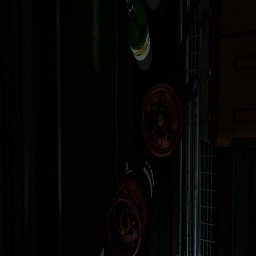0: (124, 0, 152, 71), (146, 0, 161, 9)
NitrogenTank ,: (106, 150, 156, 256), (140, 83, 184, 158)
